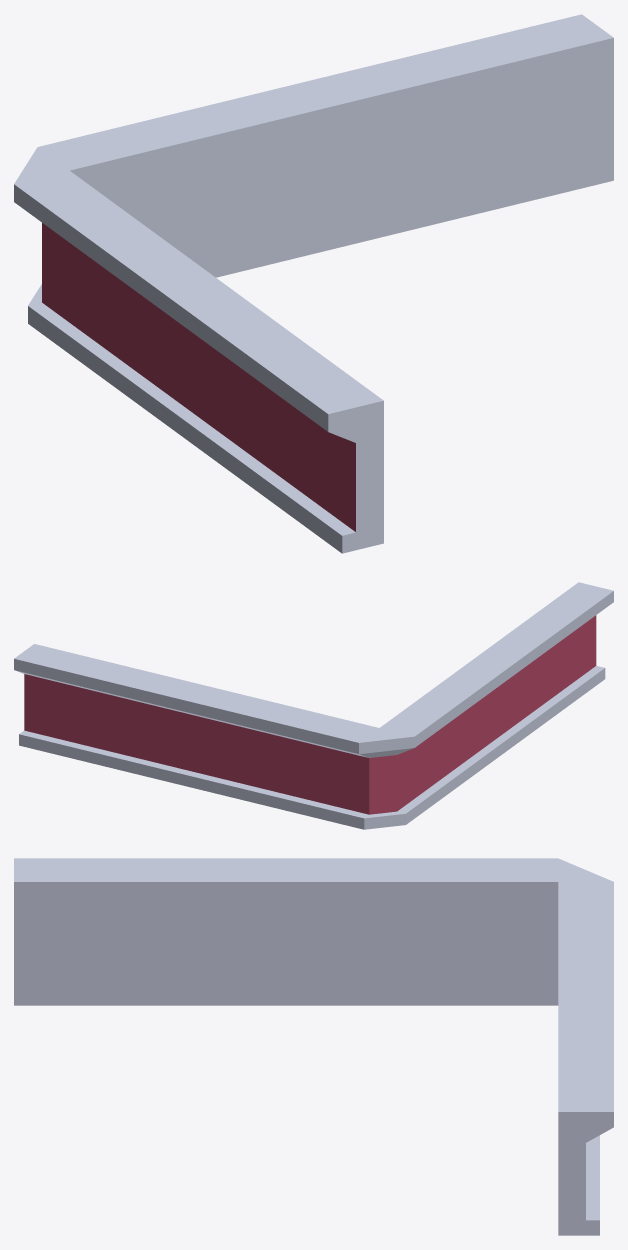
3 renders of one model, top to bottom at view 1: azimuth 30°, elevation 25°; view 2: azimuth 150°, elevation 25°; view 3: azimuth 270°, elevation 25°, orthographic. The views are drawn at different scales.
Parts seen in each view (by area): view 1: object_067; view 2: object_067; view 3: object_067.
Boxes of the visible parts, <box> form: object_067: <box>14,14,613,553</box>; object_067: <box>14,582,613,829</box>; object_067: <box>14,858,613,1235</box>.
Bounding box in the file's own units: 1.02 × 0.2329 × 1.02.
